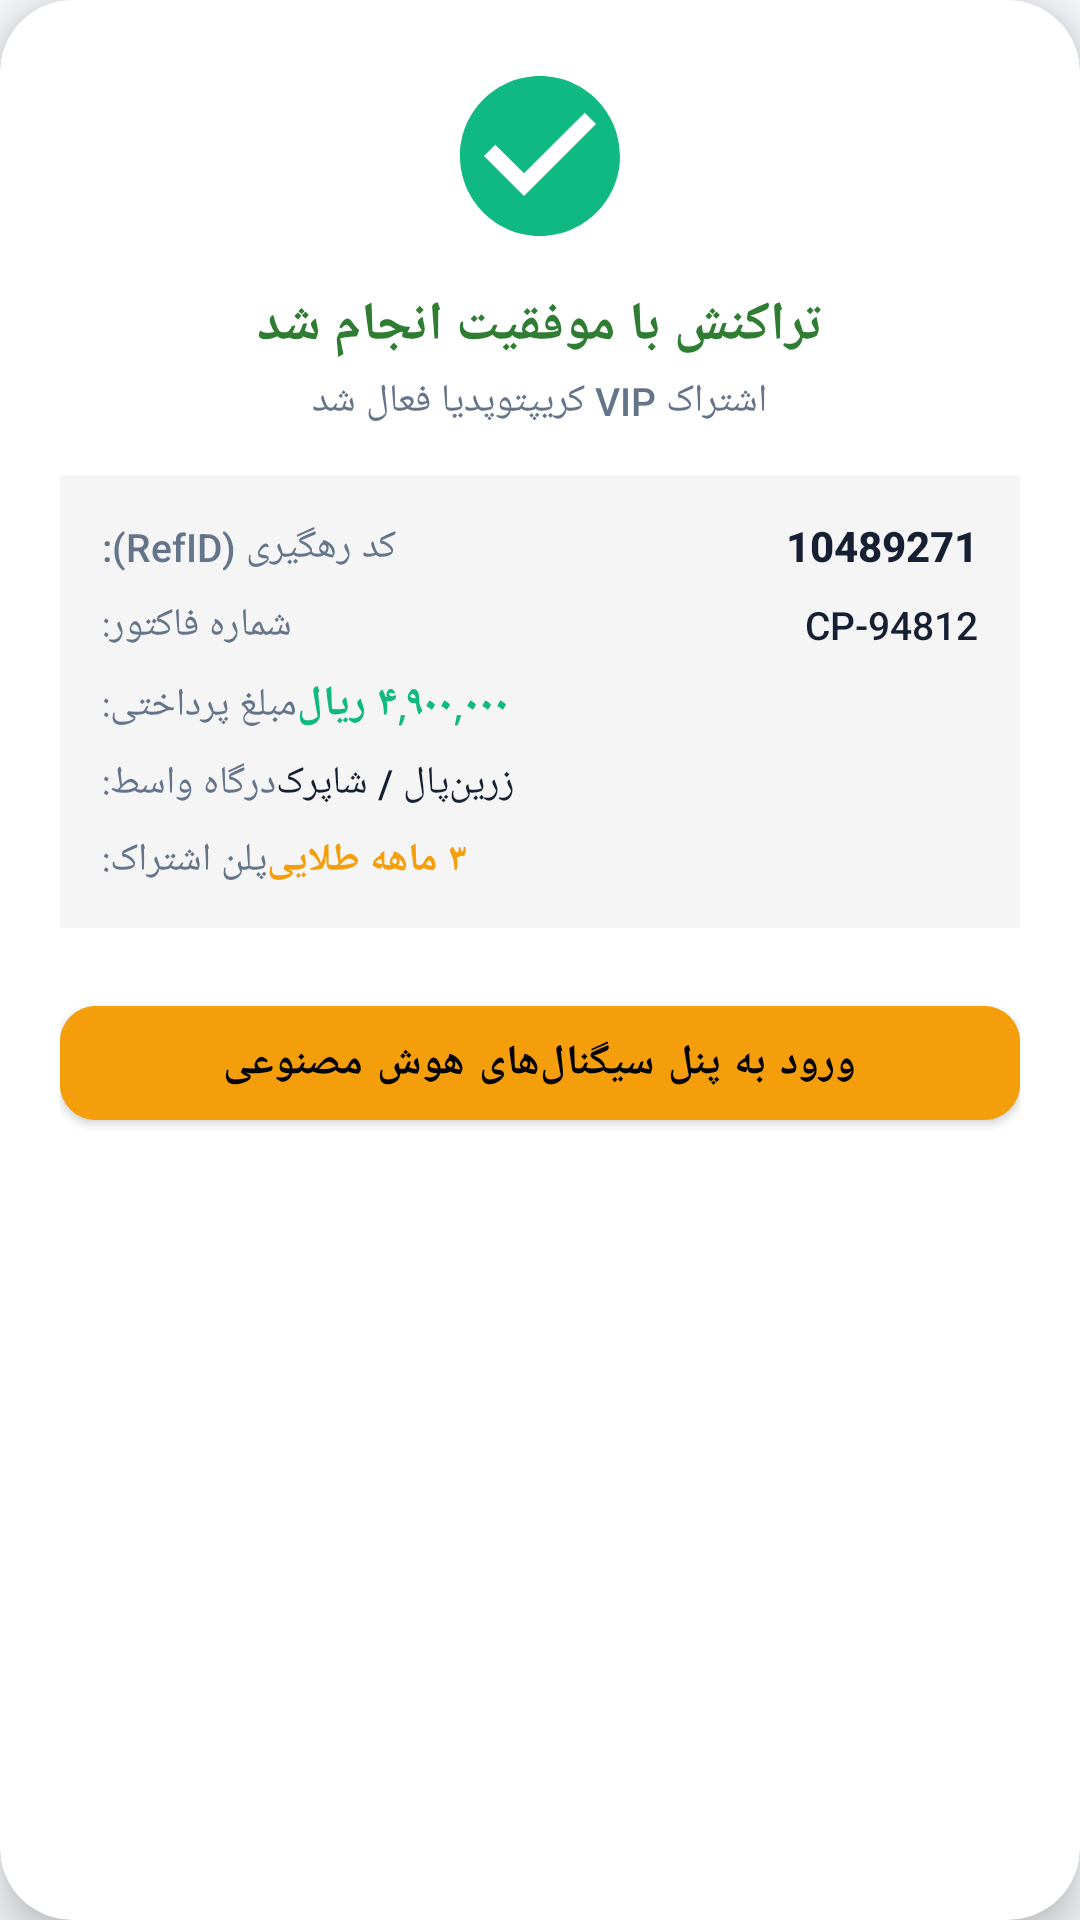

Icons on this 1080x1920 Android screen, each with the point to tap as [x,y]:
Success: [540,156]
